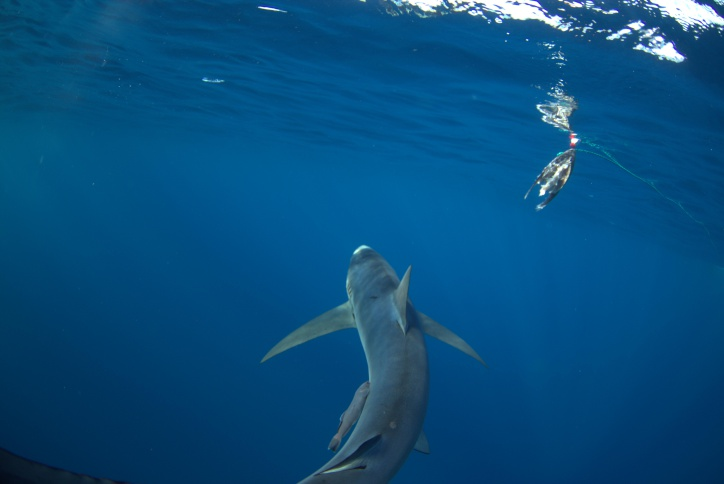Azul: (257, 226, 498, 484)
